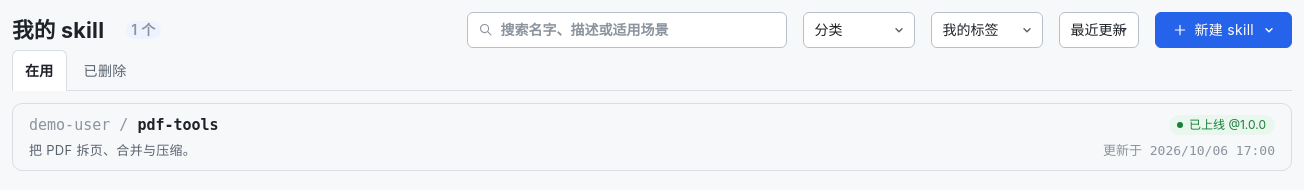
Test: the preview beside the list › opens from a row, and the name still goes to the skill page
The width and height of the screenshot is (1304, 190).
Click the text with class "skill-title": (113, 150) [29,141,196,160]
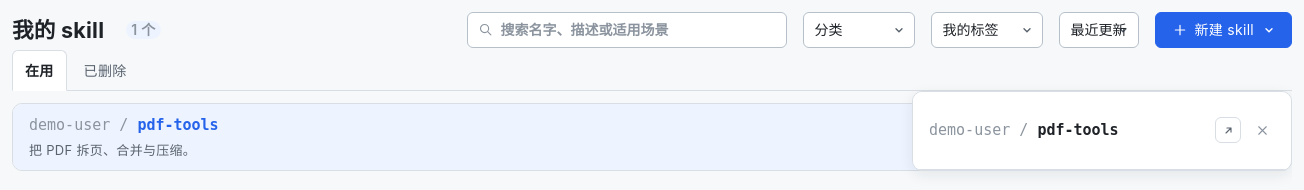
Expected: the 1st link "demo-user / pdf-tools" is shown, [29,114,219,137]
Expected: the element with id "skillPreview" is shown, [912,91,1292,171]
